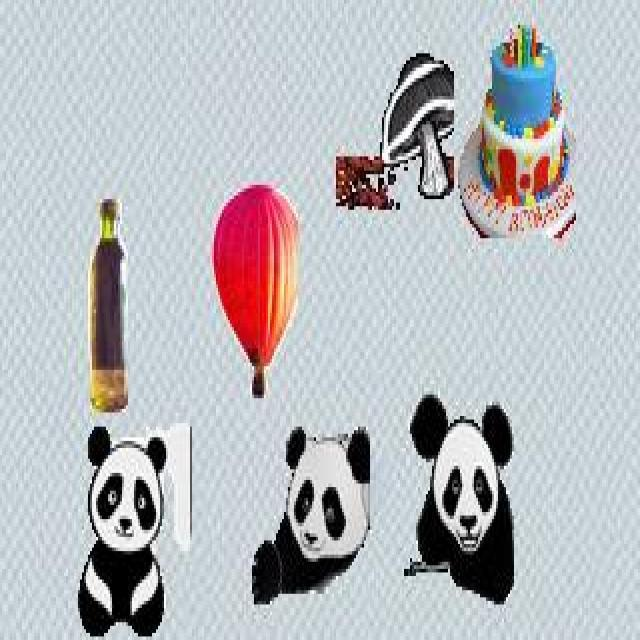Other Objects: (334, 47, 455, 215), (212, 184, 300, 398), (86, 196, 130, 414)
